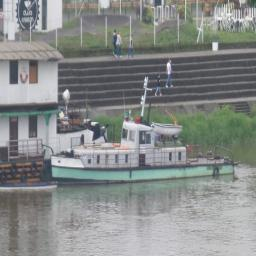tugboat: (50, 74, 242, 193)
